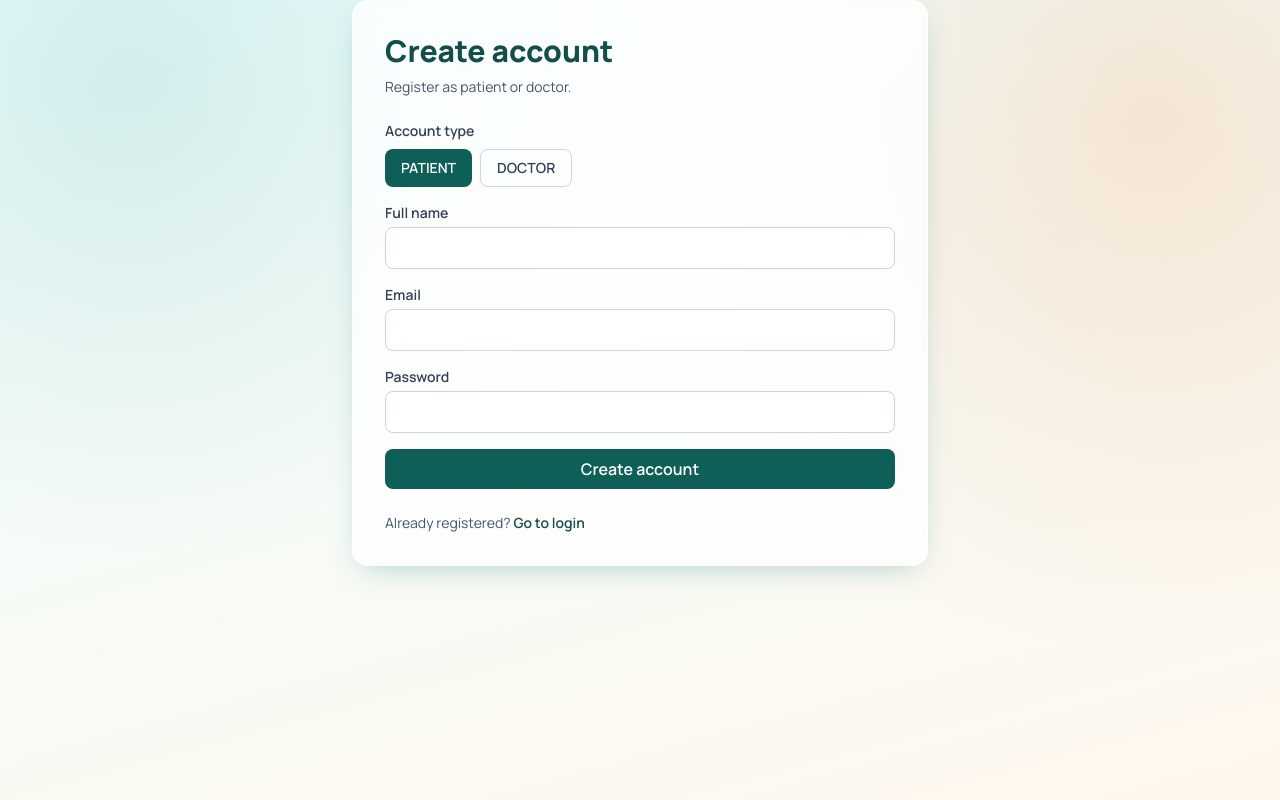
Test: RegisterPage › shows error on failed register
Type "Patient Demo" into the field labelled "Full name" at (640,248), box [385,227,895,269]
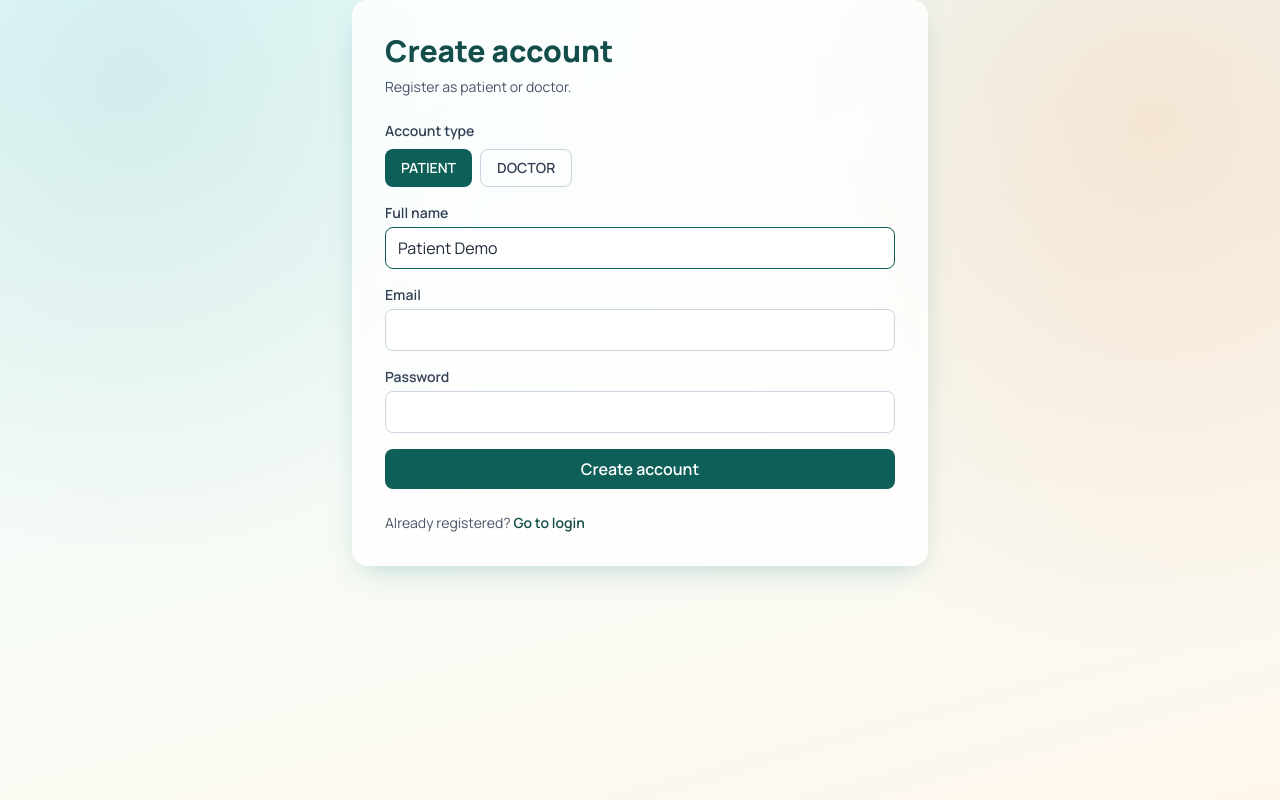
Type "patient@example.com" into the field labelled "Email" at (640,330), box [385,309,895,351]
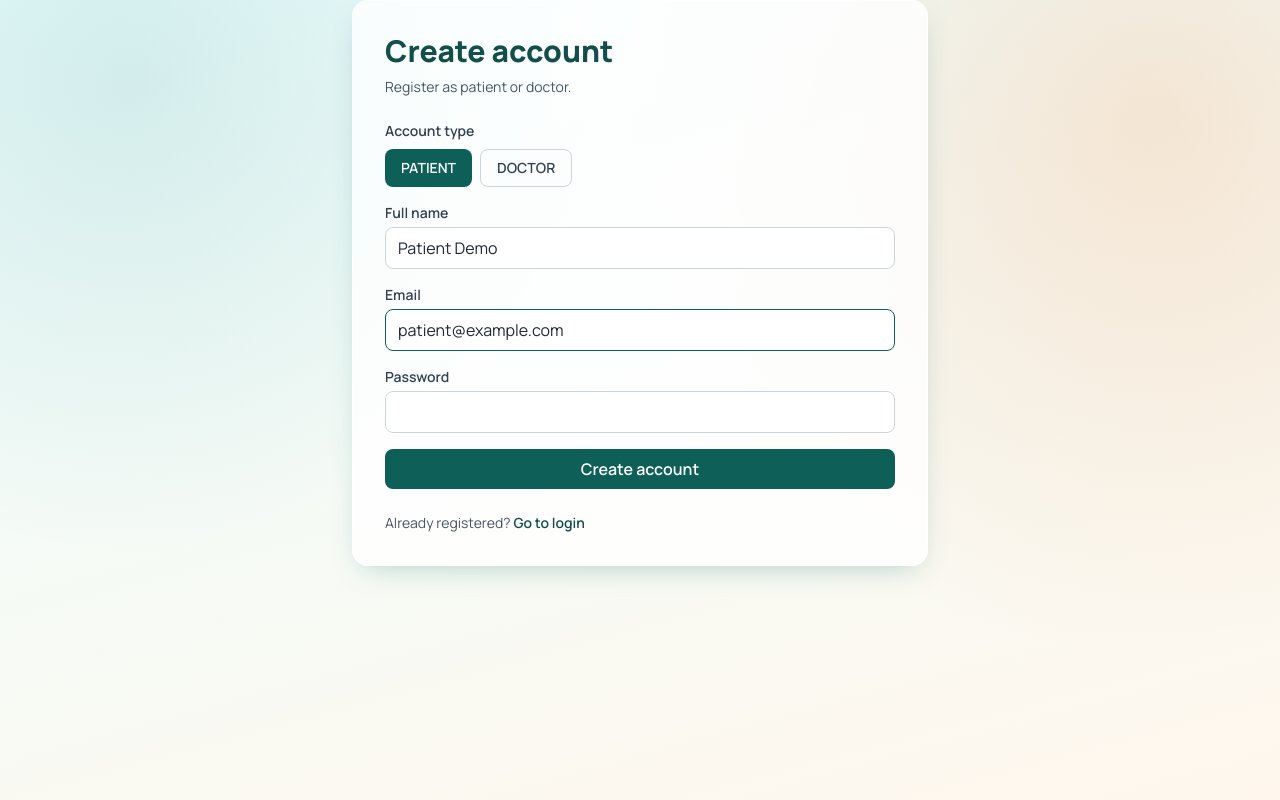
Type "secret123" into the password field labelled "Password" at (640,412), box [385,391,895,433]
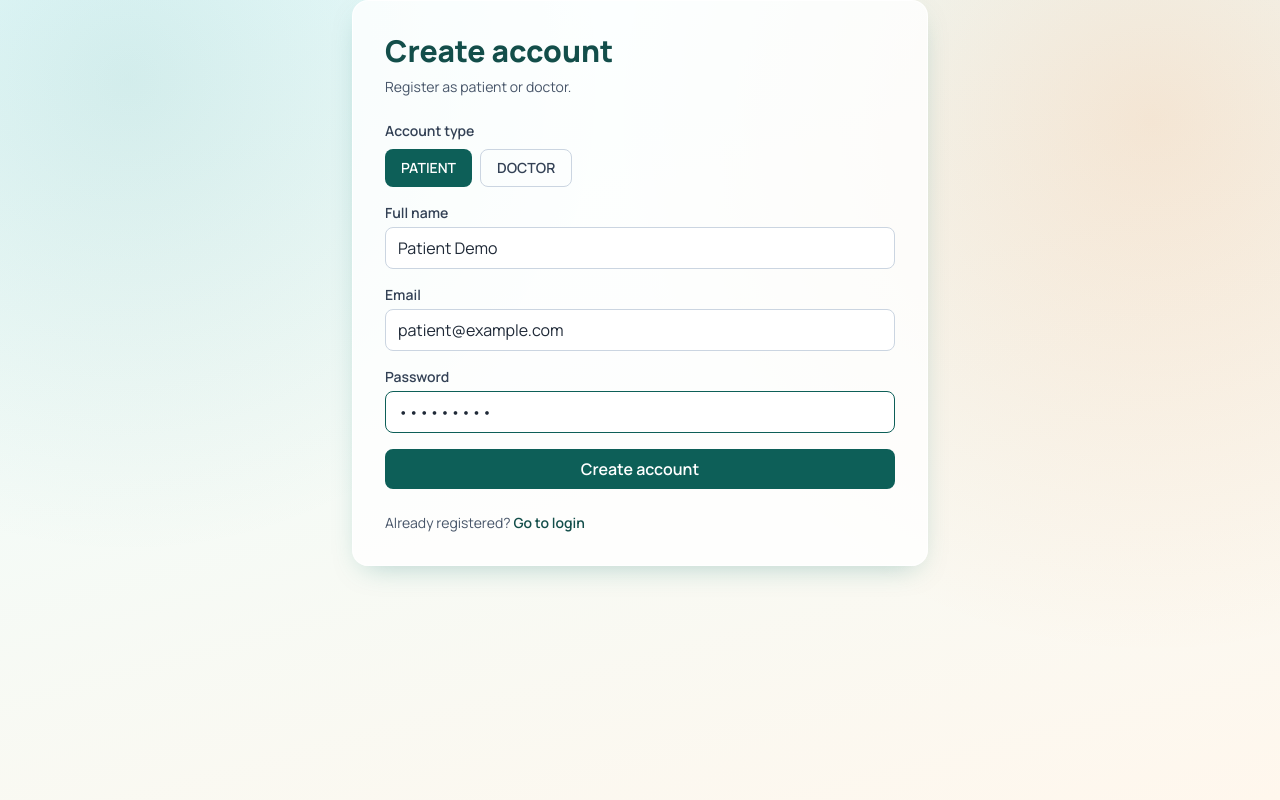
Click the button "Create account" at (640,469), box [385,449,895,489]
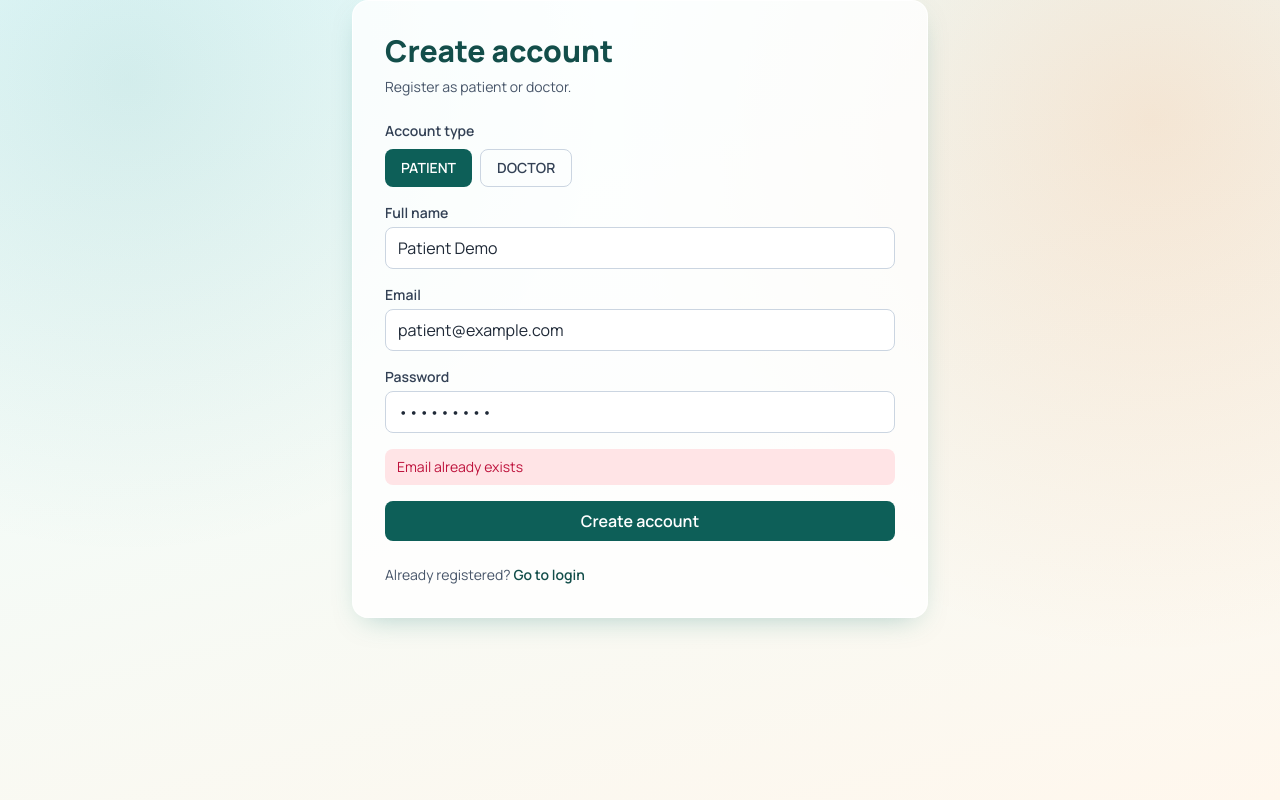
Expected: the text "Email already exists" is shown, [385,449,895,485]
